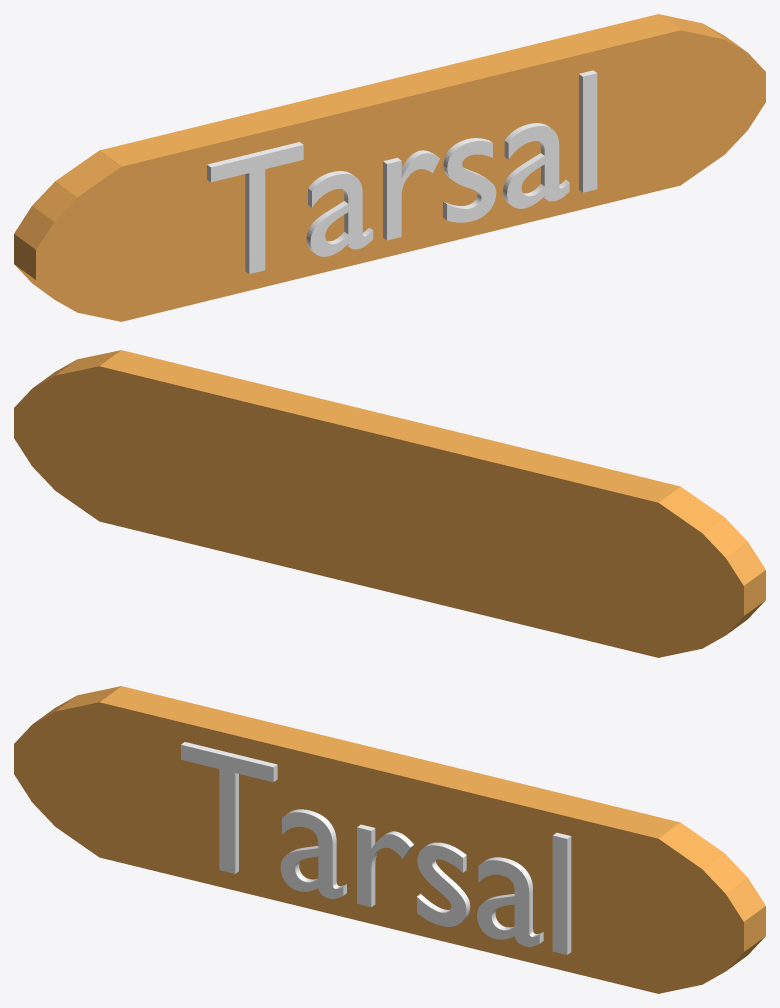
File: txtTarsal.fbx
3 renders of one model, top to bottom at view 1: azimuth 30°, elevation 25°; view 2: azimuth 150°, elevation 25°; view 3: azimuth 330°, elevation 25°, orthographic.
Visible parts, largest first — view 1: TagContainer.016, Text.016; view 2: TagContainer.016; view 3: TagContainer.016, Text.016.
Boxes of the visible parts, <box> form: TagContainer.016: <box>14,14,765,321</box>; Text.016: <box>207,70,597,273</box>; TagContainer.016: <box>14,350,765,657</box>; TagContainer.016: <box>14,686,765,993</box>; Text.016: <box>181,742,571,954</box>.
Bounding box in the file's own units: 203 × 41.3 × 12.58.
